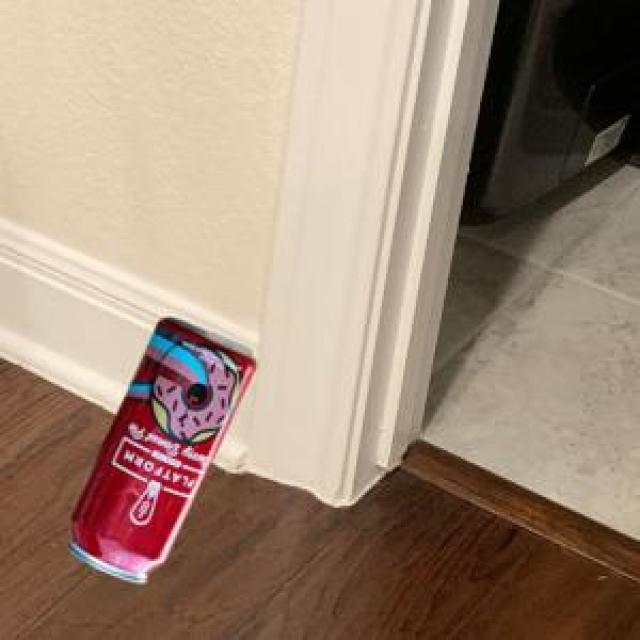logam: (65, 315, 253, 579)
